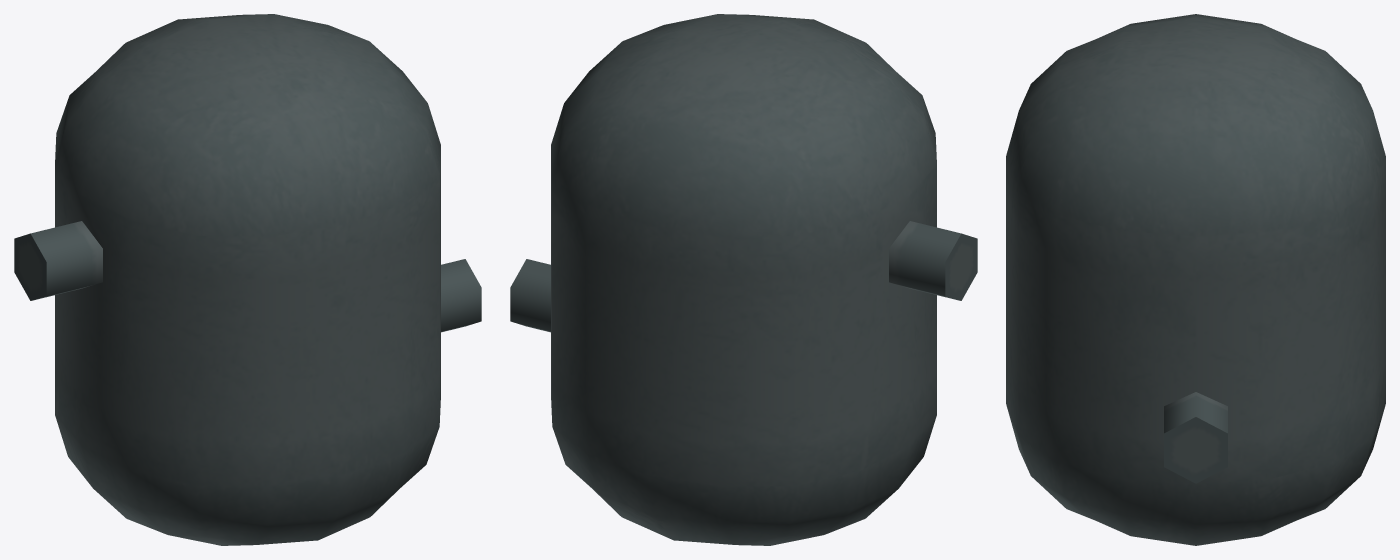
The model's file is Chem_FudgeTank.fbx.
The picture shows the model from 3 angles, left to right: view 1: azimuth 30°, elevation 25°; view 2: azimuth 150°, elevation 25°; view 3: azimuth 270°, elevation 25°; orthographic projection.
Parts seen in each view (by area): view 1: Fudge_Can; view 2: Fudge_Can; view 3: Fudge_Can.
Boxes of the visible parts, x1=… form: Fudge_Can: x1=14, y1=14, x2=481, y2=545; Fudge_Can: x1=510, y1=14, x2=977, y2=545; Fudge_Can: x1=1006, y1=14, x2=1385, y2=545.
Size of the model in its own units: 1.15 by 1.21 by 0.8785.
1 material, 1 textured.
